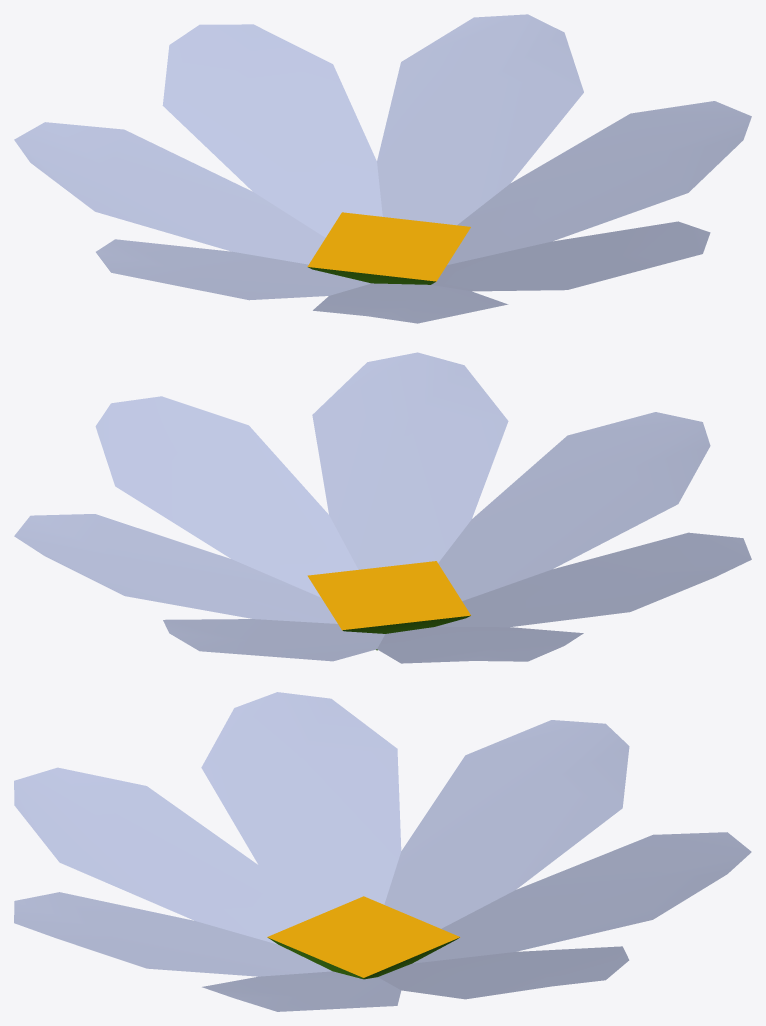
The model's file is FlorVariation.fbx.
The picture shows the model from 3 angles, top to bottom: view 1: azimuth 30°, elevation 25°; view 2: azimuth 150°, elevation 25°; view 3: azimuth 270°, elevation 25°; orthographic projection. The views are drawn at different scales.
Visible parts, largest first — view 1: FlorVariation; view 2: FlorVariation; view 3: FlorVariation.
Part boxes in pixels (bbox=[...]): FlorVariation: bbox=[14, 14, 751, 323]; FlorVariation: bbox=[14, 352, 751, 663]; FlorVariation: bbox=[14, 692, 751, 1011].
Bounding box in the file's own units: 16.91 × 3.24 × 16.49.
